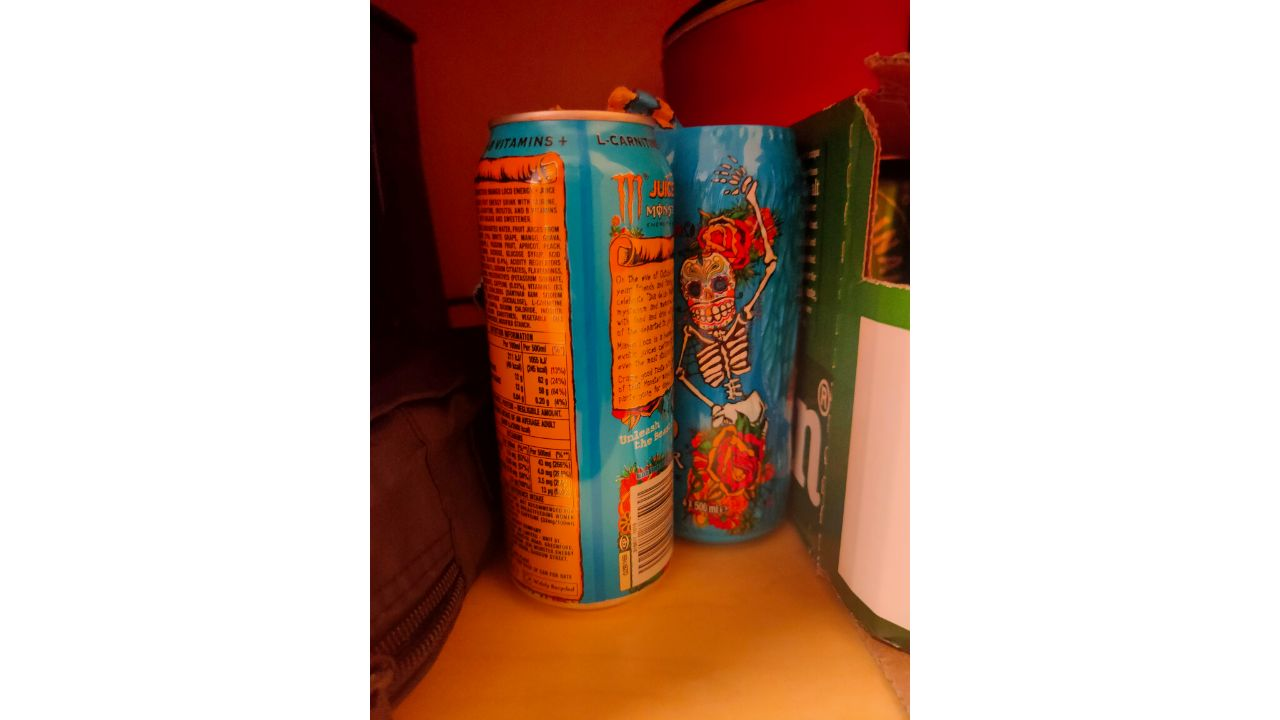Can: (471, 112, 682, 612)
